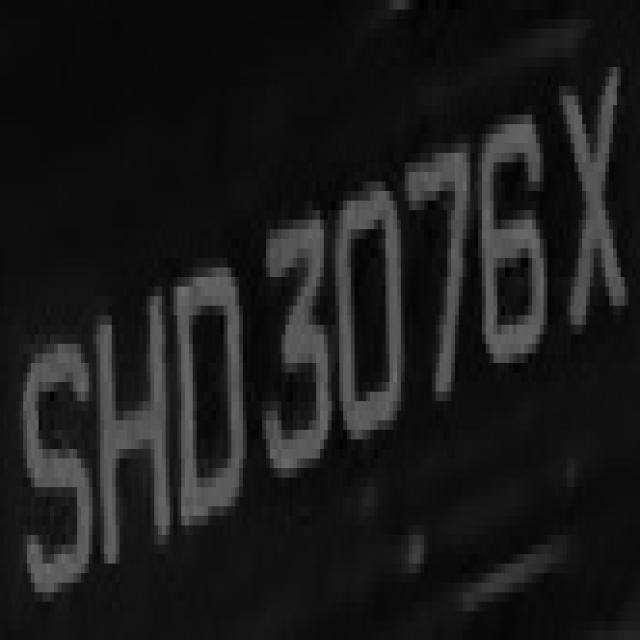0: (328, 152, 405, 478)
3: (254, 201, 336, 506)
6: (466, 76, 552, 402)
7: (389, 115, 478, 449)
D: (170, 229, 254, 564)
H: (84, 238, 170, 582)
S: (8, 296, 100, 631)
X: (552, 38, 628, 392)
